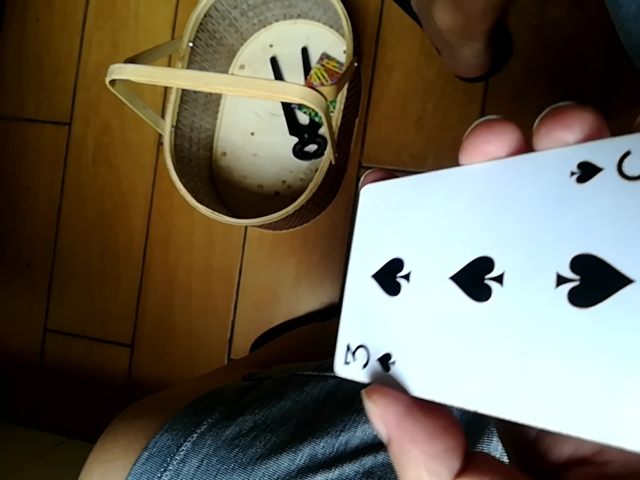ht 3: (337, 130, 640, 455)
